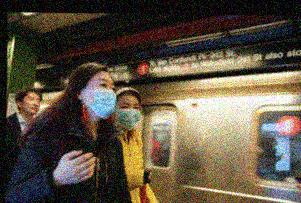with_mask: (84, 77, 118, 120), (114, 101, 142, 132)
without_mask: (22, 94, 42, 114)
